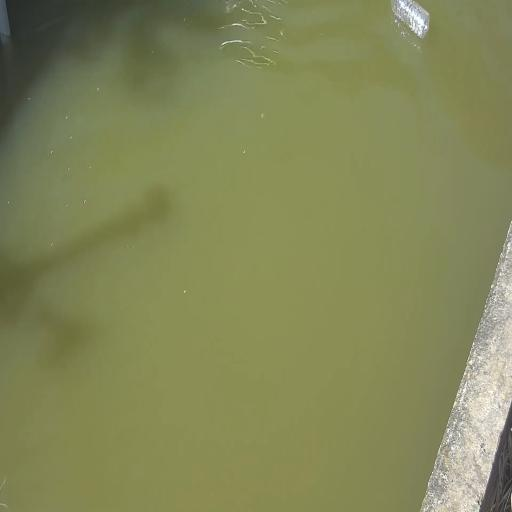plastic: (389, 0, 431, 41)
